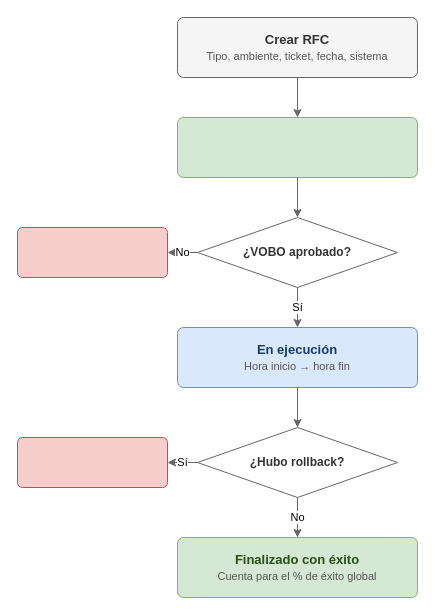
Image size: 435x615. Some labels were removed from this diagram. Here are the shapes that lost their labels. From the top down, the centre of each, then its label:
the point at 297,147: En espera del VOBO Status inicial del registro
the point at 92,252: Cancelado / Reprogramar
the point at 92,462: Finalizado sin éxito
